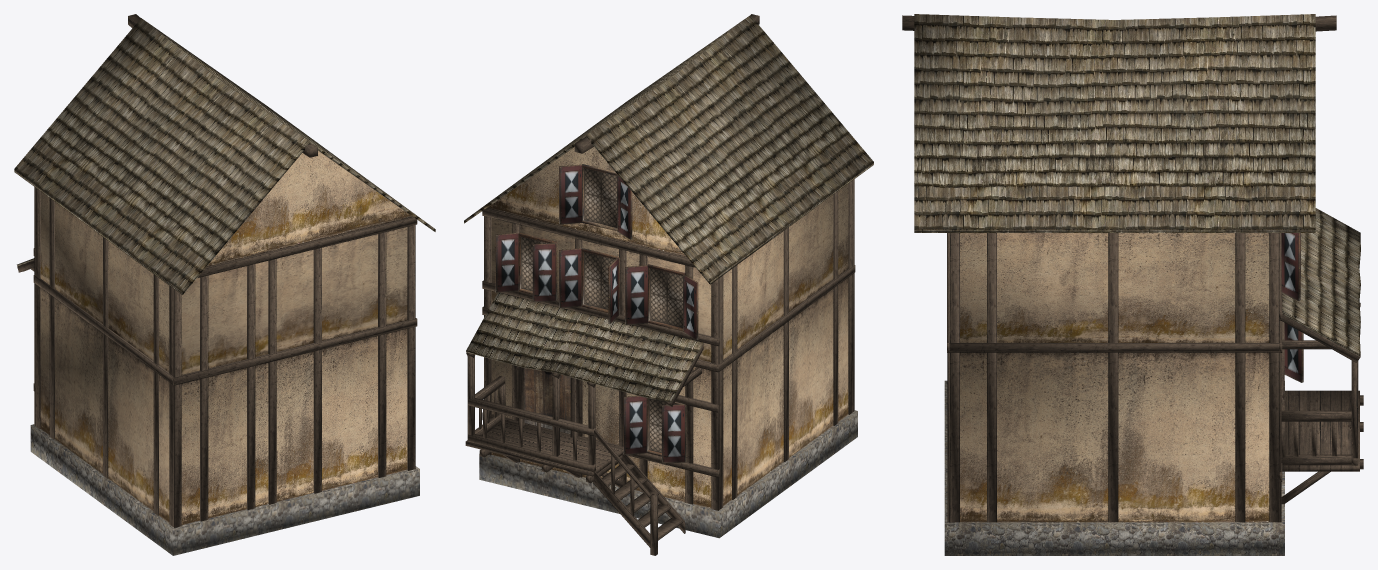
File: house2.dae
3 renders of one model, left to right at view 1: azimuth 30°, elevation 25°; view 2: azimuth 150°, elevation 25°; view 3: azimuth 270°, elevation 25°, orthographic. The views are drawn at different scales.
Parts seen in each view (by area): view 1: meshU3D; view 2: meshU3D; view 3: meshU3D.
Part boxes in pixels (bbox=[...]): meshU3D: bbox=[14, 14, 435, 555]; meshU3D: bbox=[464, 14, 873, 555]; meshU3D: bbox=[902, 14, 1363, 555].
Bounding box in the file's own units: 8.2 × 12.34 × 10.85.
